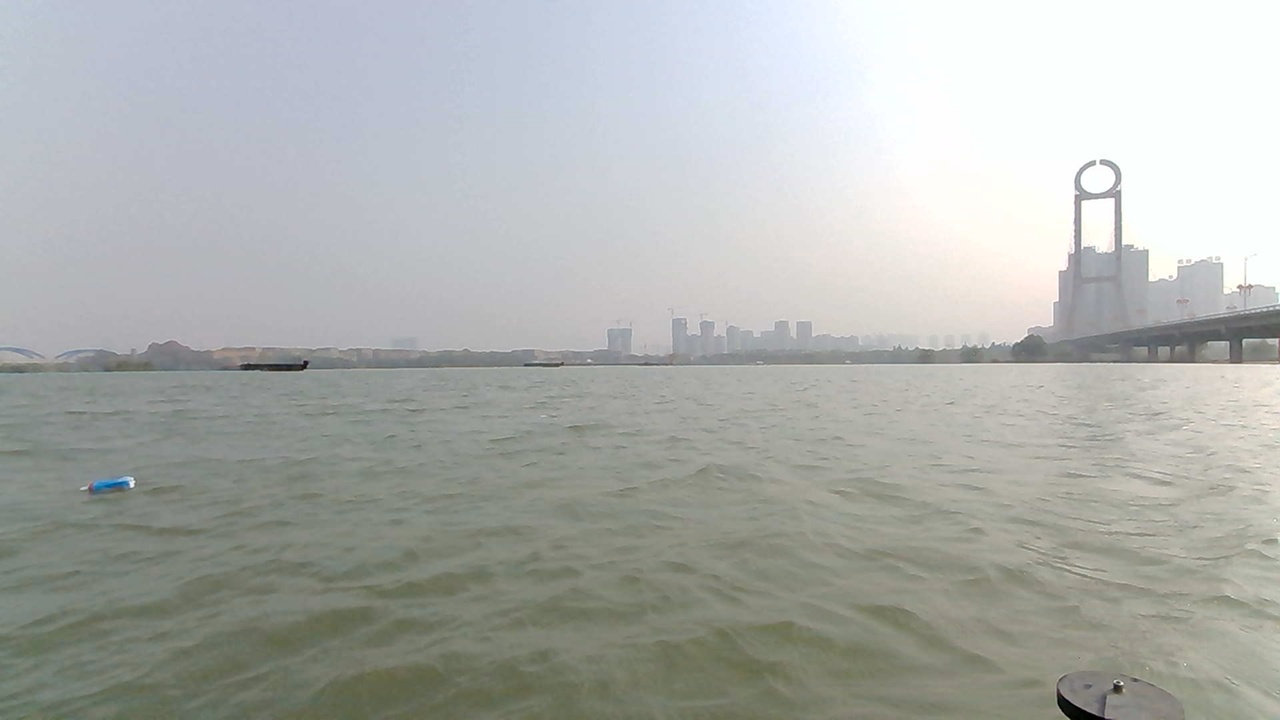bottle: (74, 470, 147, 505)
